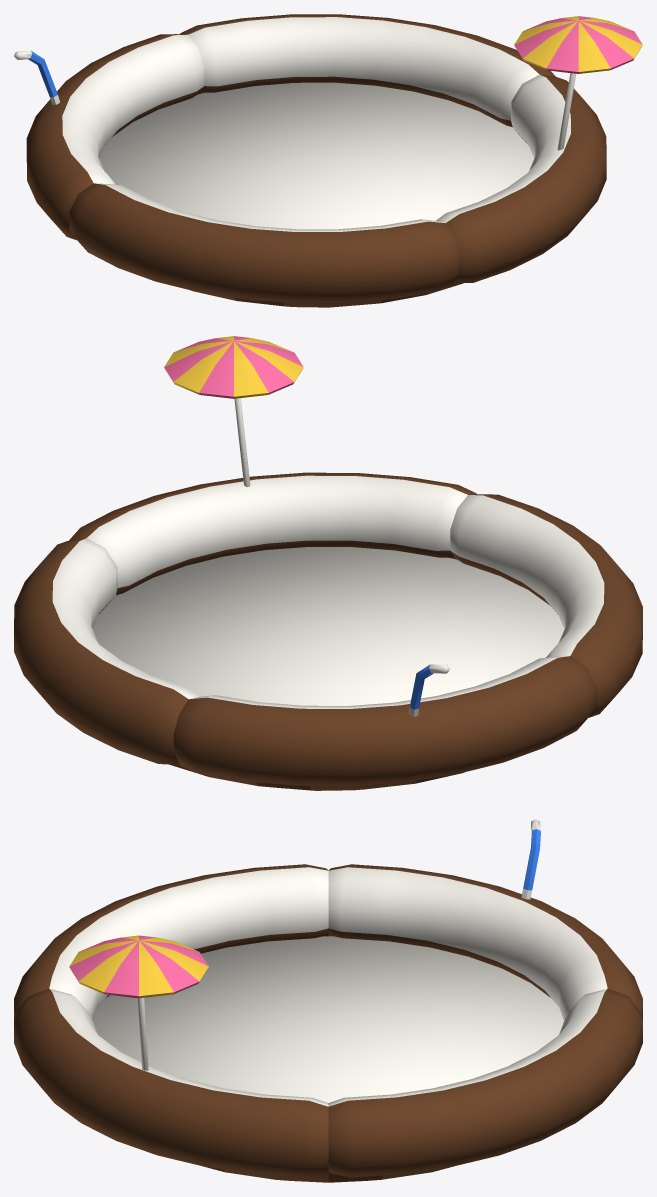
The model's file is R04_CoconutFloat.fbx.
3 views of the same model, one above another, from view 1: azimuth 30°, elevation 25°; view 2: azimuth 150°, elevation 25°; view 3: azimuth 270°, elevation 25° (orthographic). The views are drawn at different scales.
Parts seen in each view (by area): view 1: Raft_Floor, Chamber_0_NE, Chamber_1_NO, Chamber_3_SO, Chamber_2_SE, Raft_Deco; view 2: Raft_Floor, Chamber_1_NO, Chamber_2_SE, Chamber_3_SO, Chamber_0_NE, Raft_Deco; view 3: Raft_Floor, Chamber_1_NO, Chamber_3_SO, Chamber_2_SE, Chamber_0_NE, Raft_Deco.
Part boxes in pixels (box(x1,y1,x2,y2)): Raft_Floor: box(99, 82, 534, 229); Chamber_0_NE: box(69, 183, 459, 302); Chamber_1_NO: box(436, 16, 642, 283); Chamber_3_SO: box(180, 14, 555, 127); Chamber_2_SE: box(14, 34, 204, 240); Raft_Deco: box(191, 283, 463, 307); Raft_Floor: box(92, 547, 564, 705); Chamber_1_NO: box(69, 336, 476, 595); Chamber_2_SE: box(173, 656, 596, 785); Chamber_3_SO: box(14, 538, 199, 764); Chamber_0_NE: box(450, 494, 642, 717); Raft_Deco: box(169, 764, 464, 790); Raft_Floor: box(93, 936, 563, 1102); Chamber_1_NO: box(14, 935, 328, 1177); Chamber_3_SO: box(328, 988, 642, 1177); Chamber_2_SE: box(328, 819, 642, 1020); Chamber_0_NE: box(14, 864, 328, 1020); Raft_Deco: box(204, 1166, 452, 1182).
Bounding box in the file's own units: 4.32 × 2.13 × 4.32.
